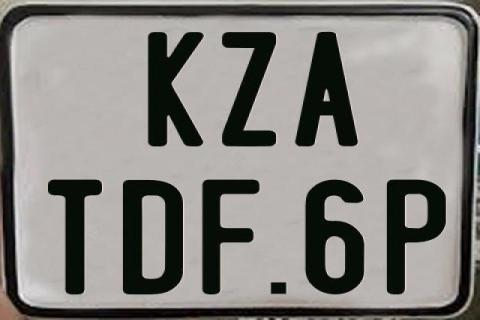0: (305, 177, 370, 293)
A: (296, 32, 364, 150)
D: (120, 179, 182, 297)
F: (202, 178, 260, 296)
K: (146, 31, 207, 147)
P: (387, 177, 449, 295)
T: (45, 180, 104, 298)
Z: (219, 31, 275, 147)
